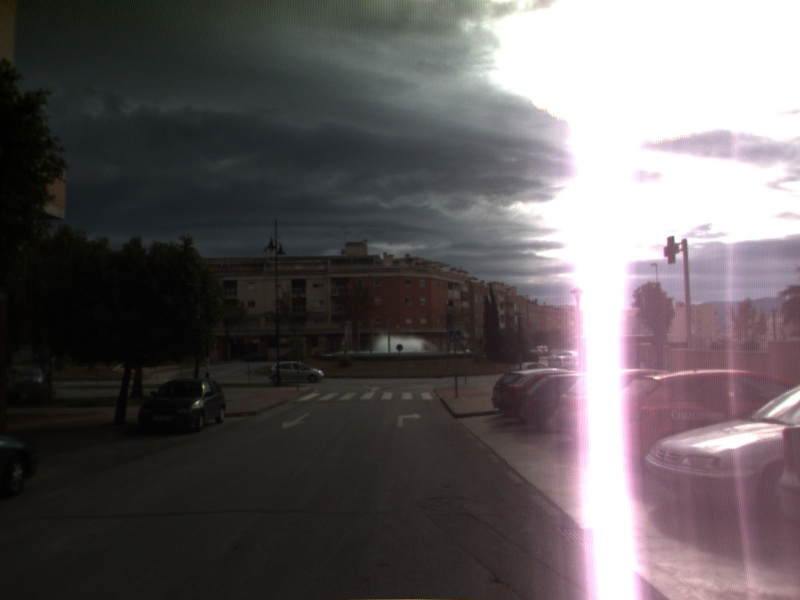RIGHT: (395, 410, 425, 429)
